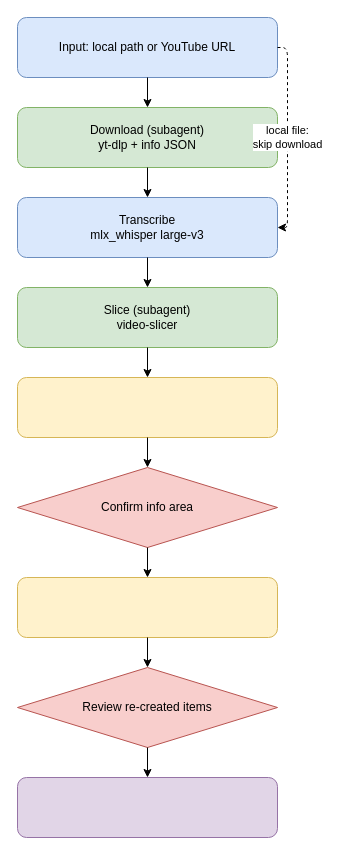
Image size: 340x855. Some labels were removed from this diagram. Each missing label, with the centre of its shape:
"Final: article.md + images/ + HTML transcript.md + whisper.json" belongs at (147,807).
"Per slide: read, ImageMagick fix, re-create diagram / code / formula / table" belongs at (147,407).
"Write structured article" belongs at (147,607).
